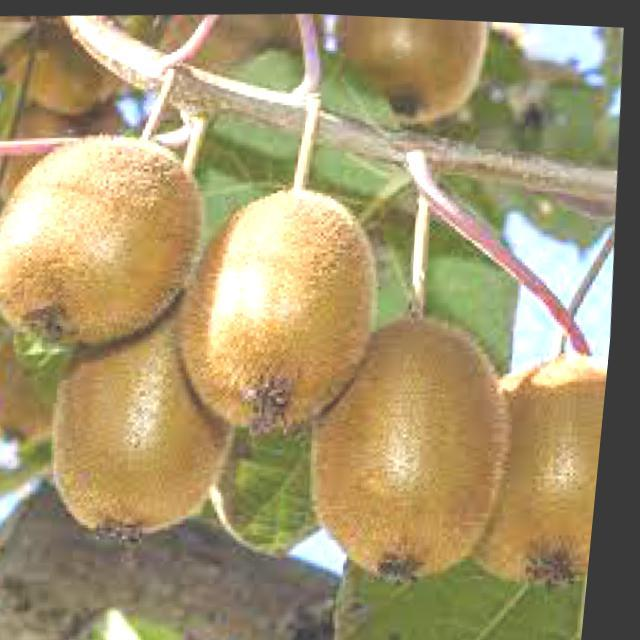kiwi: (299, 301, 533, 588), (44, 274, 257, 552), (172, 175, 394, 436), (1, 120, 218, 361), (467, 341, 616, 598), (319, 13, 491, 133)
